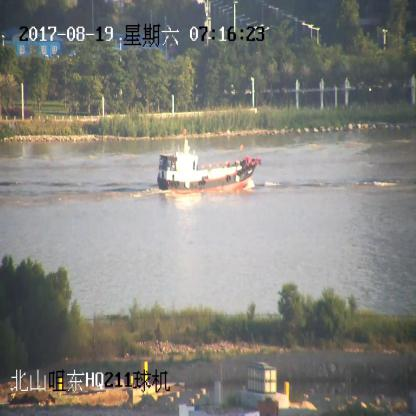Fishing Boat: (158, 137, 261, 194)
